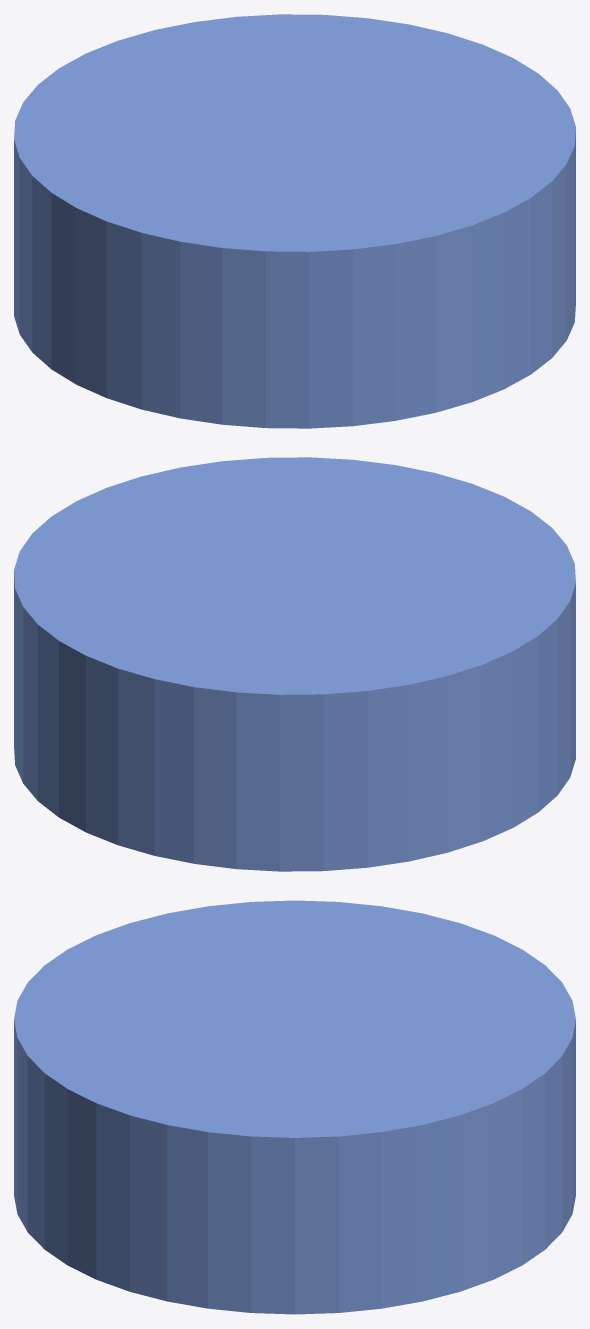
The model's file is rec_bottle_cap_0053.glb.
3 views of the same model, one above another, from view 1: azimuth 30°, elevation 25°; view 2: azimuth 150°, elevation 25°; view 3: azimuth 270°, elevation 25° (orthographic).
Parts seen in each view (by area): view 1: z-up-to-y-up; view 2: z-up-to-y-up; view 3: z-up-to-y-up.
Boxes of the visible parts, x1,y1,x2,y2 form: z-up-to-y-up: [14, 14, 575, 428]; z-up-to-y-up: [14, 457, 575, 871]; z-up-to-y-up: [14, 900, 575, 1314].
Bounding box in the file's own units: 0.0308 × 0.0107 × 0.0308.
